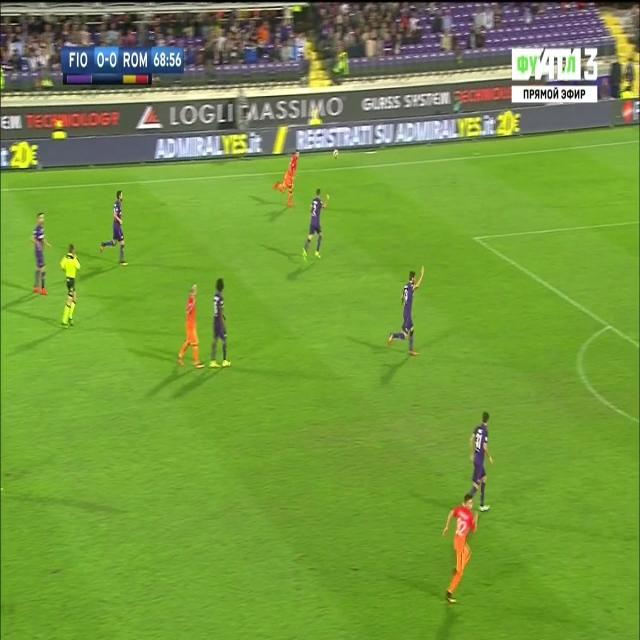Ball: (331, 148, 340, 162)
Player: (440, 490, 480, 610), (387, 262, 428, 360), (299, 185, 333, 268), (208, 276, 236, 374), (470, 408, 496, 513), (177, 278, 204, 373), (99, 188, 127, 269), (29, 210, 52, 300), (271, 150, 303, 208)
Referee: (60, 242, 83, 334)
